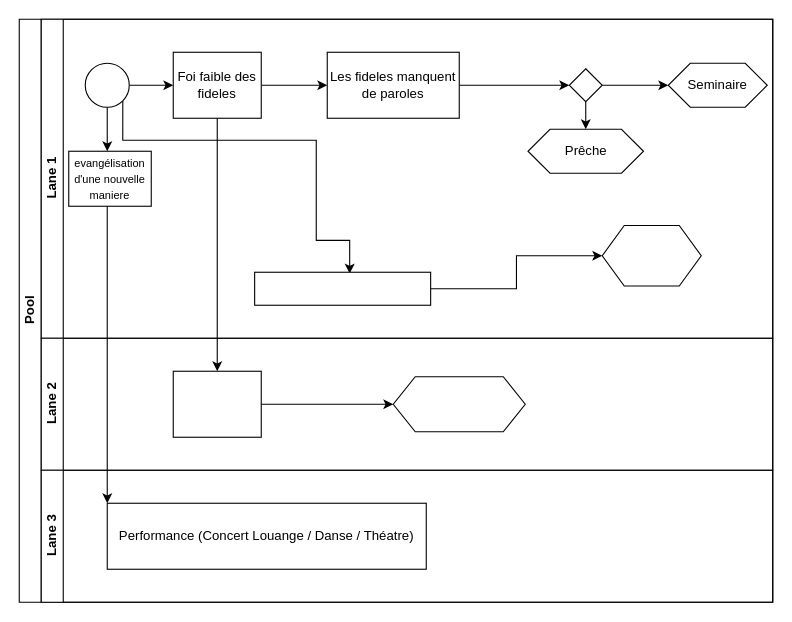
Some shapes in this 792 by 622 pixel diagram are drawn without their labels. Each missing label, with the centre of its shape:
"Coaching Louange" belongs at point (651, 255).
"Manque de compétences au niveau de la louange" belongs at point (342, 288).
"probleme de communication entre les fideles" belongs at point (216, 403).
"Programme de famille" belongs at point (458, 404).
"Start" belongs at point (106, 84).
